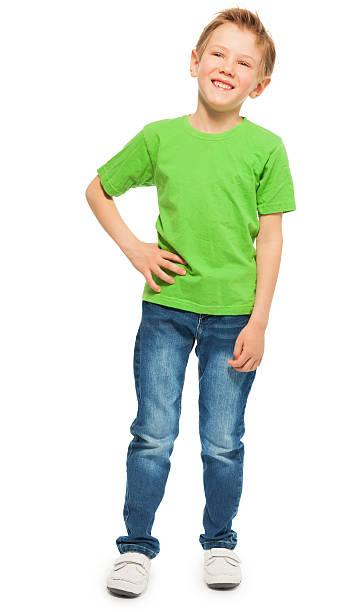Human: (87, 12, 308, 612)
